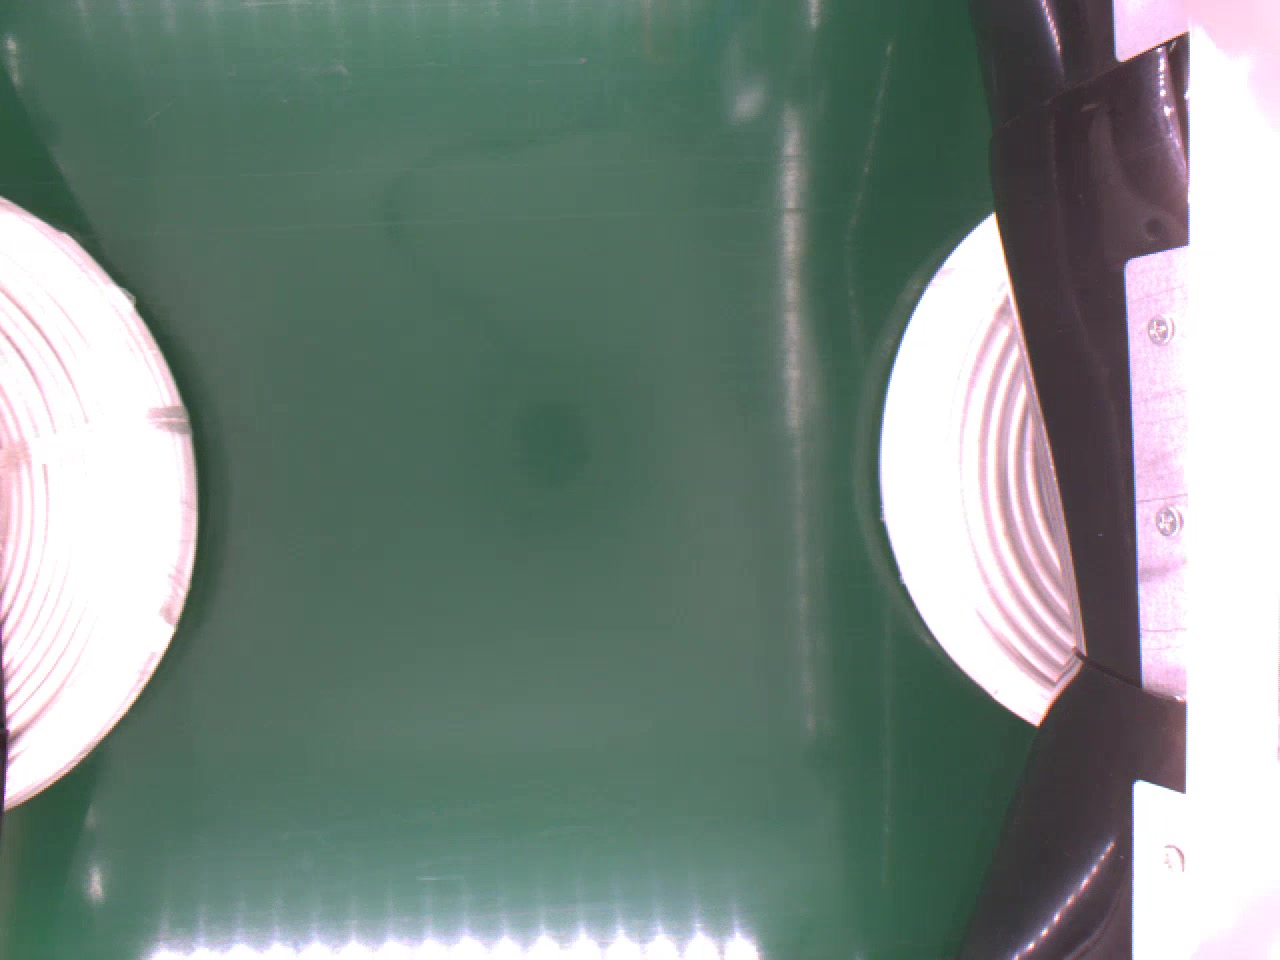white: (0, 197, 204, 810), (874, 194, 1082, 732)
